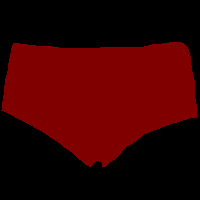mutande: (1, 42, 197, 167)
